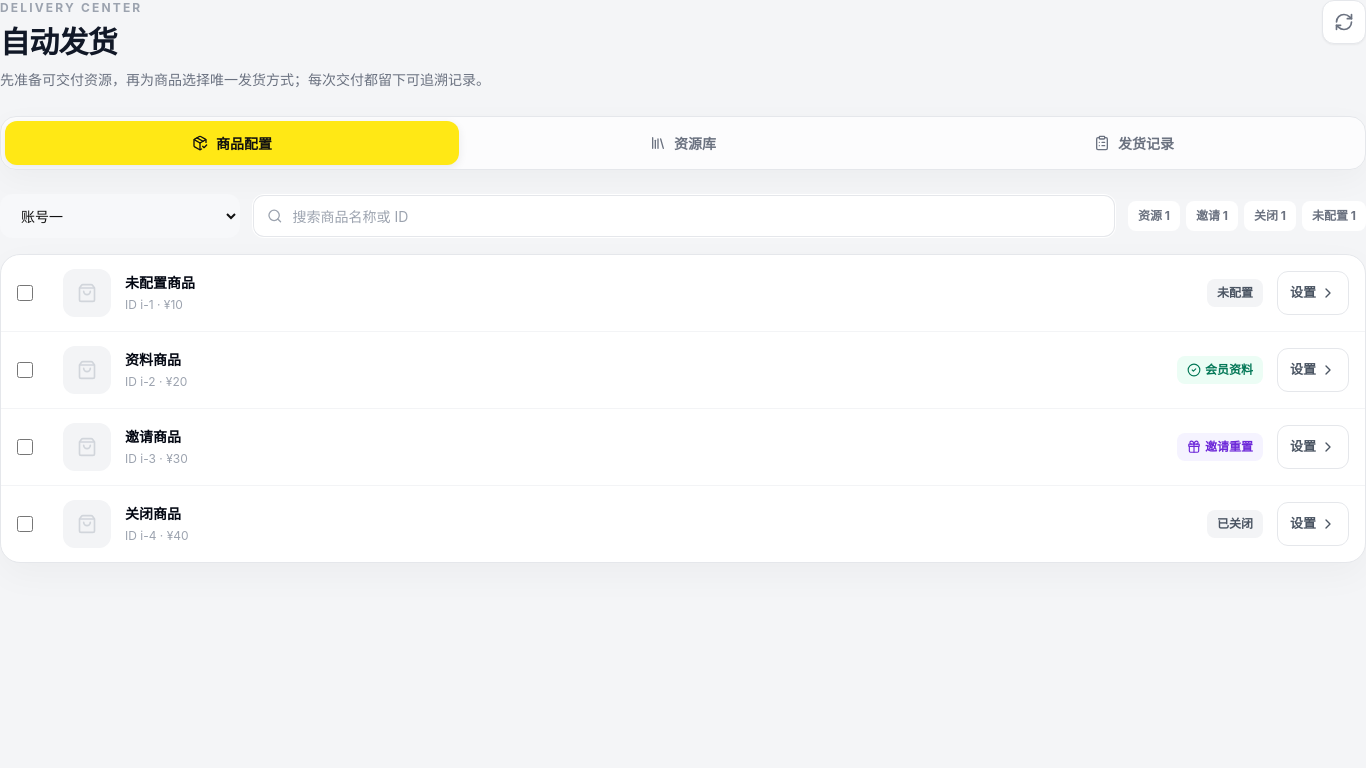
Test: AutoDelivery delivery workbench › keeps failed rows selected when a batch only partially succeeds
The width and height of the screenshot is (1366, 768).
Expected: the text "未配置商品" is shown, x1=125 y1=274 x2=195 y2=291
Click the checkbox named "选择 未配置商品". click: (25, 293)
box: x1=17 y1=285 x2=33 y2=301
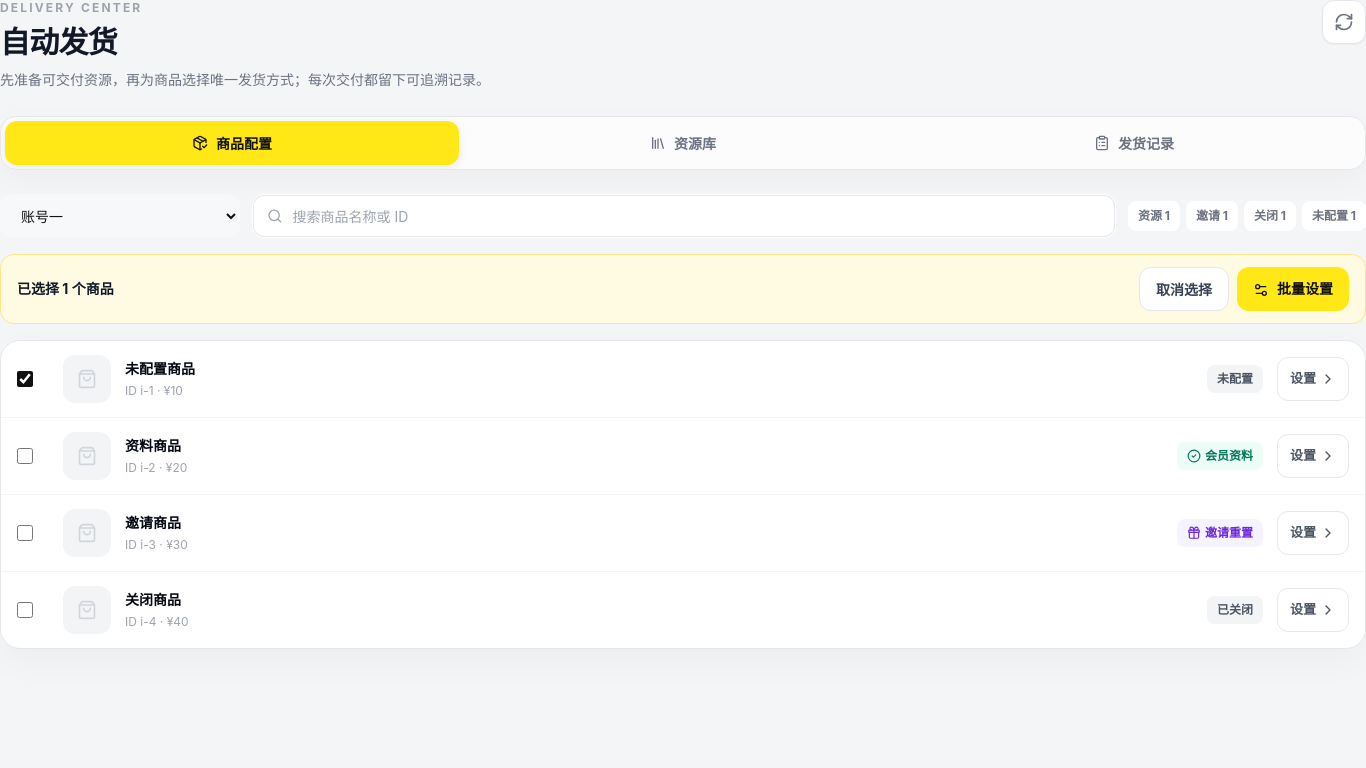
Click the checkbox named "选择 资料商品". click: (25, 456)
box: x1=17 y1=448 x2=33 y2=464
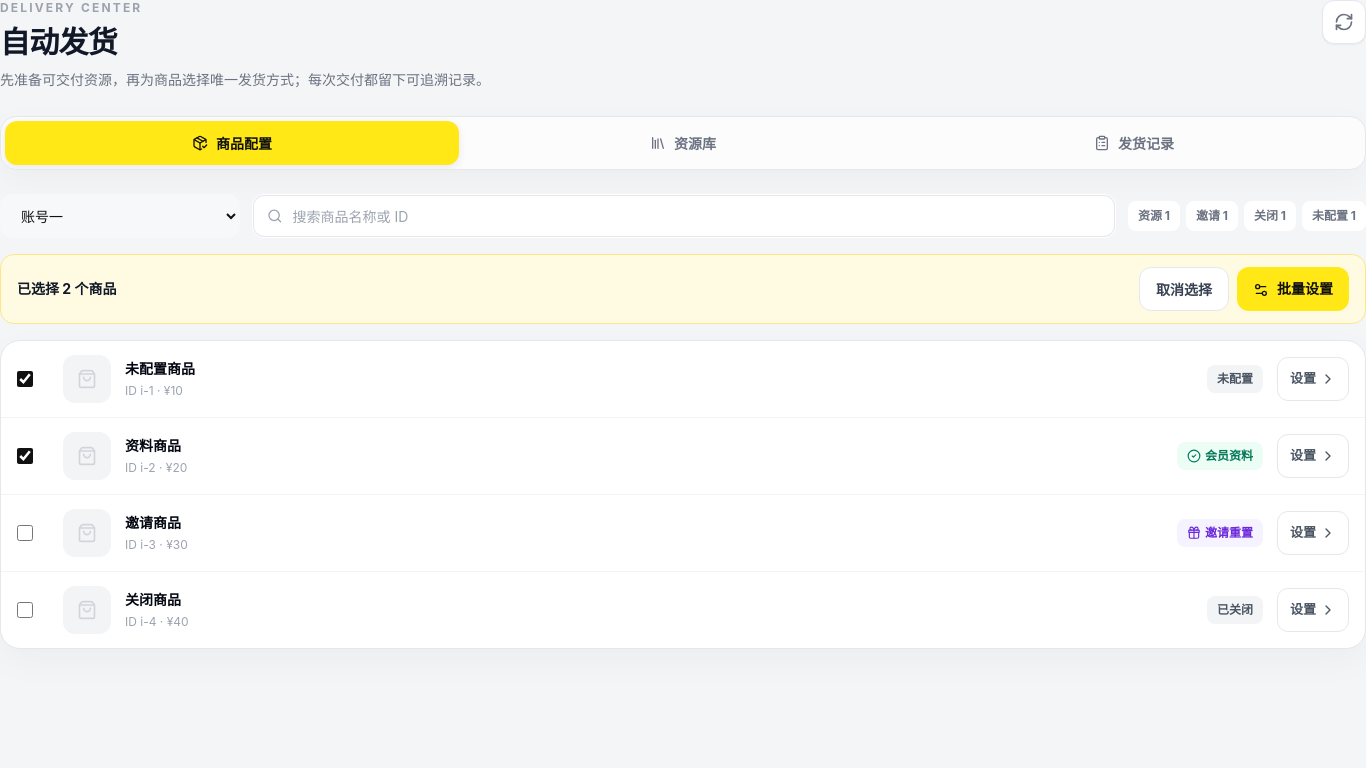
Click the button "批量设置". click: (1293, 289)
box: x1=1237 y1=267 x2=1349 y2=311
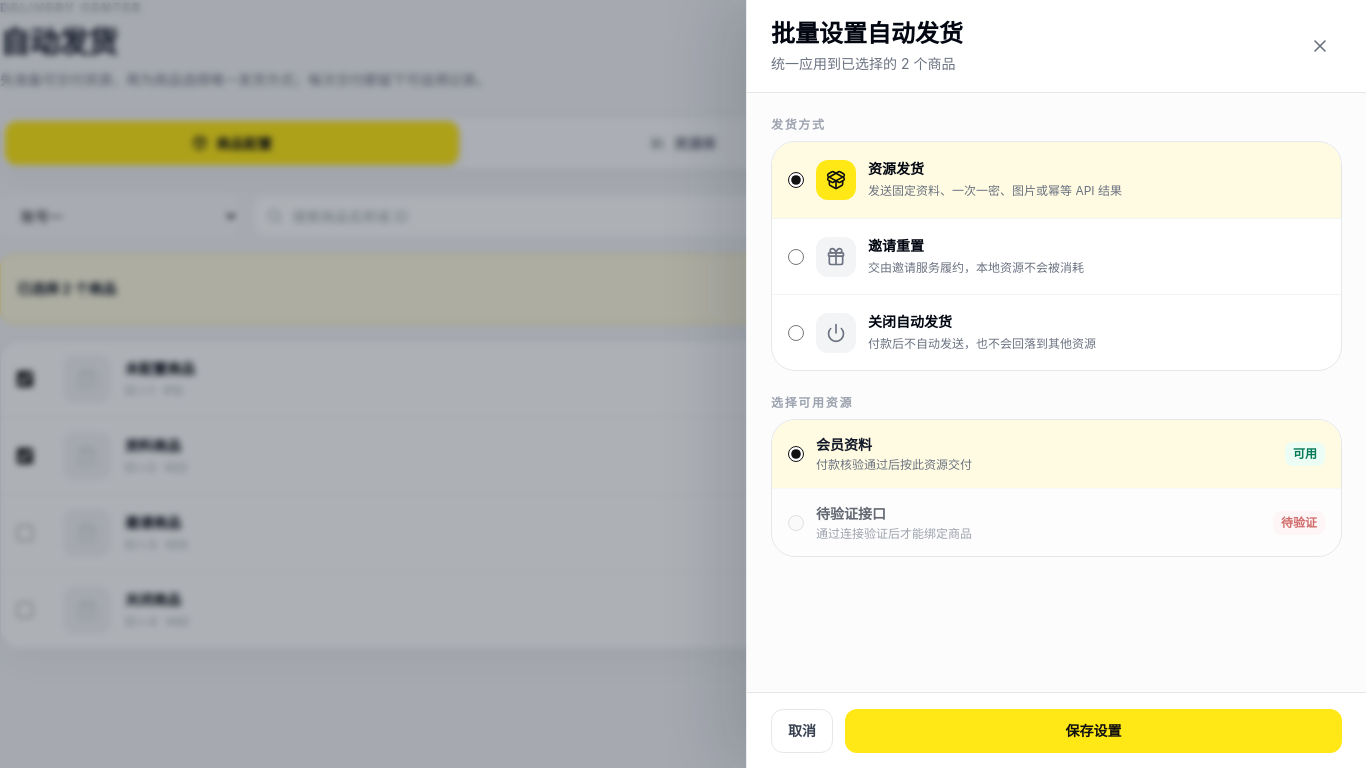
Click the button "保存设置". click: (1094, 730)
box: x1=845 y1=708 x2=1342 y2=752
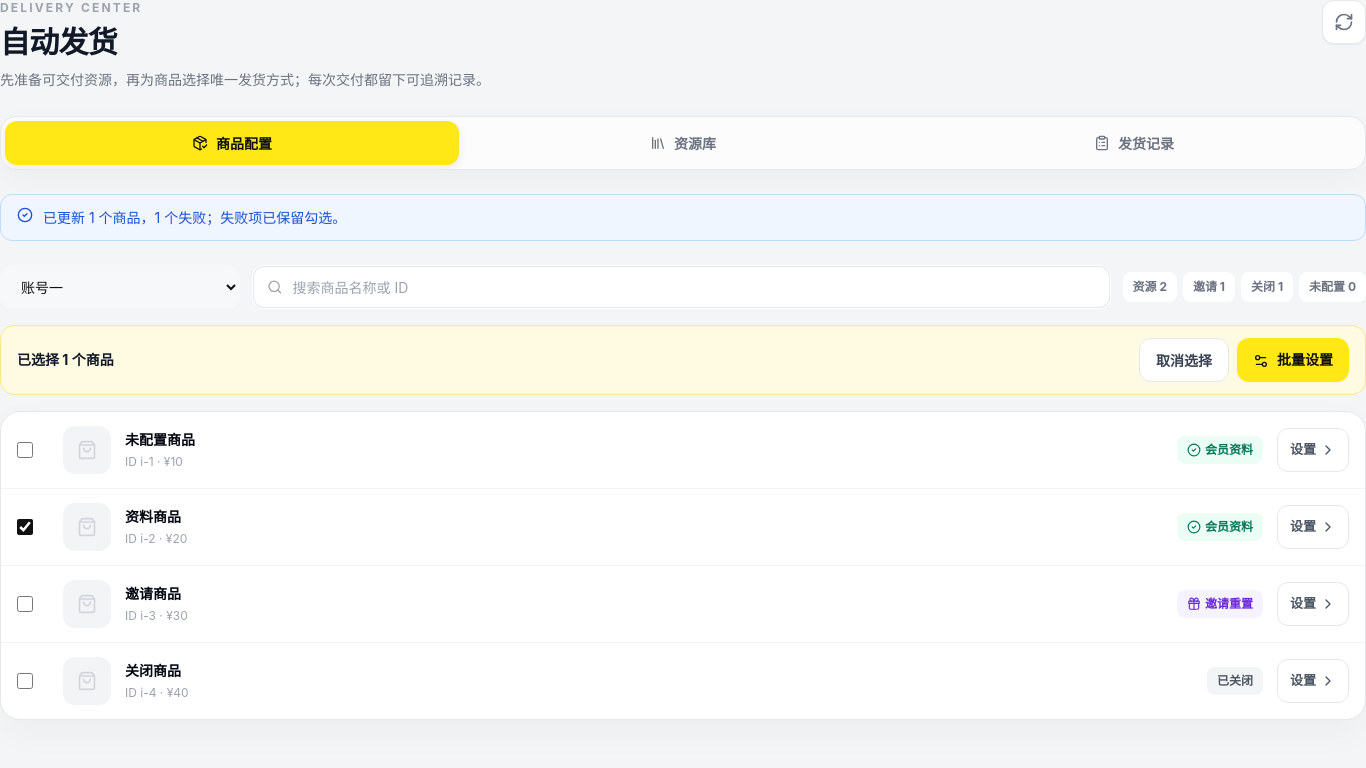
Expected: the checkbox named "选择 未配置商品" is not checked, x1=17 y1=442 x2=33 y2=458
Expected: the checkbox named "选择 资料商品" is checked, x1=17 y1=519 x2=33 y2=535
Expected: the text "已更新 1 个商品，1 个失败；失败项已保留勾选。" is shown, x1=43 y1=207 x2=346 y2=228
